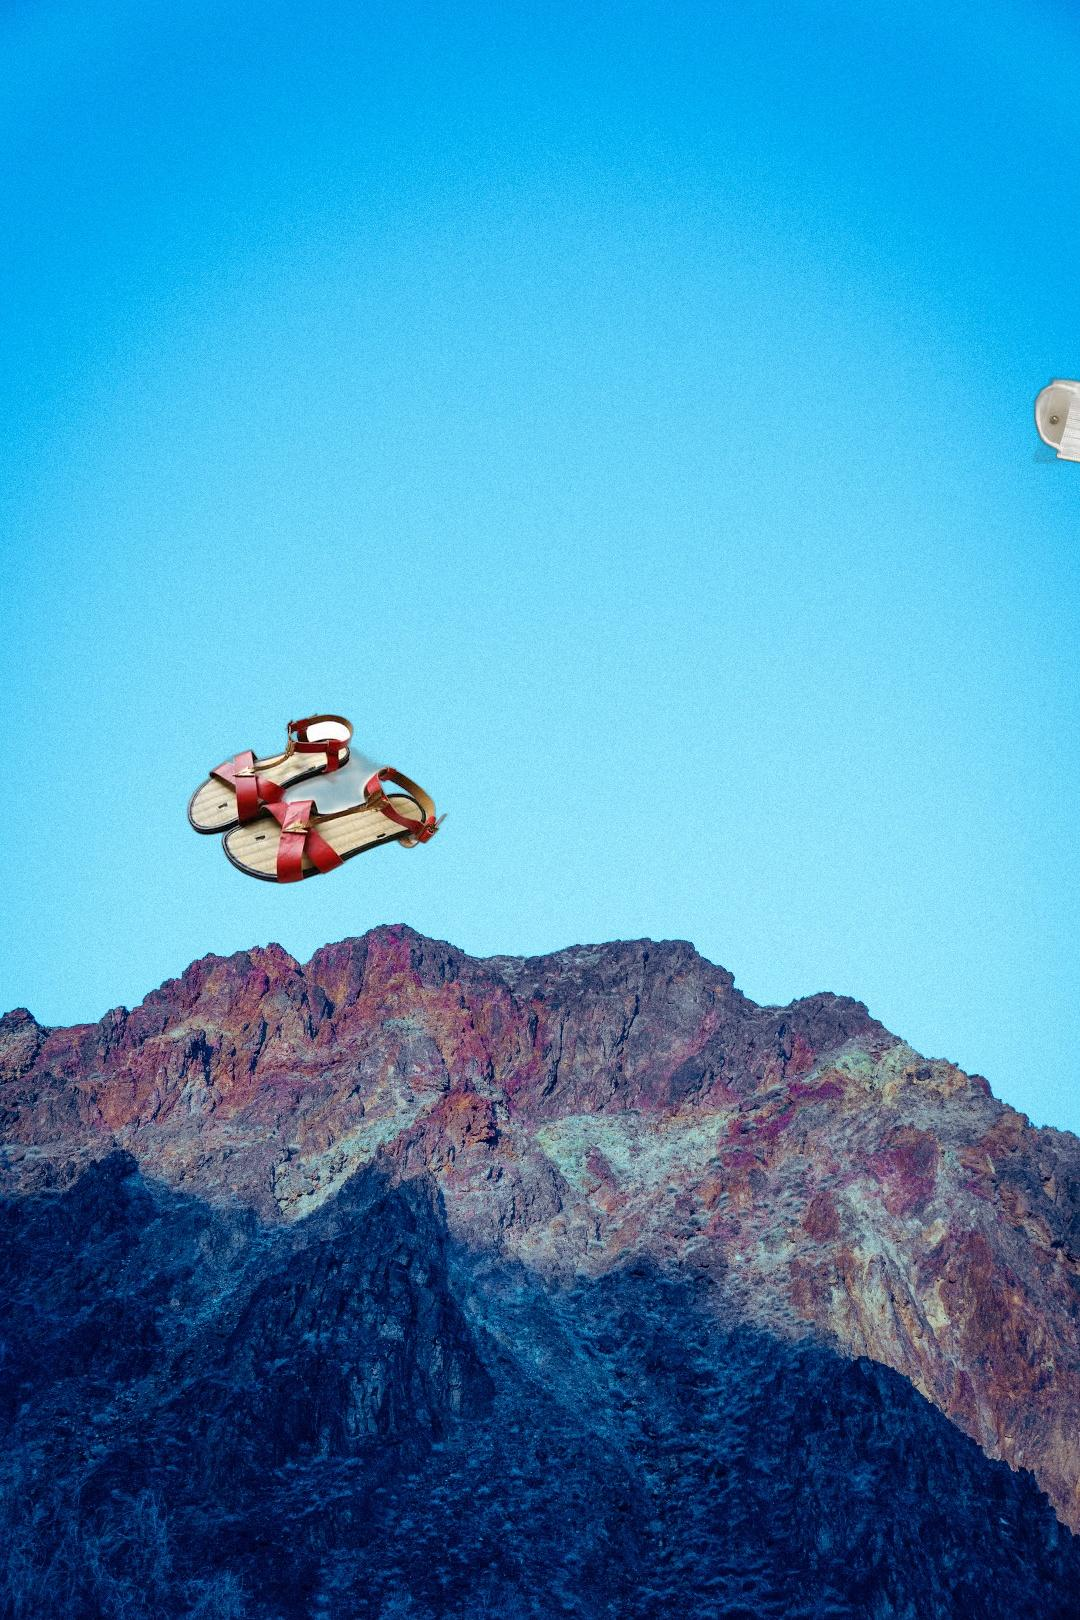shoes: (184, 710, 452, 887)
trash: (1031, 370, 1080, 482)
